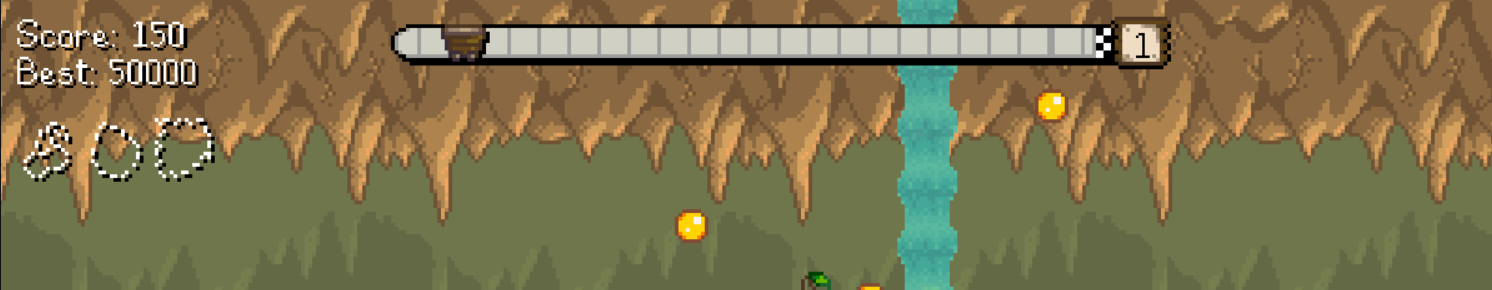coins: (676, 210, 707, 241), (1036, 90, 1067, 121)
score: (128, 14, 191, 52)
